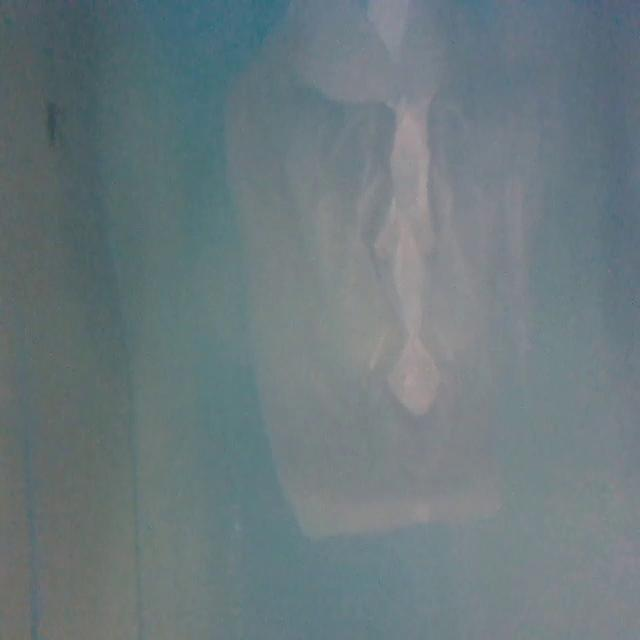plastic bags: (250, 2, 526, 540)
